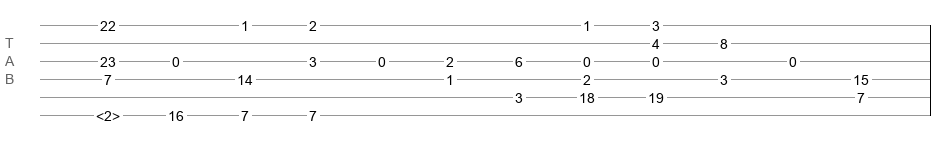0: (172, 54, 180, 64), (378, 54, 386, 64), (583, 54, 591, 64), (652, 54, 660, 64), (789, 54, 797, 64)
1: (241, 18, 249, 28), (446, 72, 454, 82), (583, 18, 591, 28)
14: (237, 72, 253, 82)
15: (853, 72, 869, 82)
16: (168, 108, 184, 118)
18: (579, 90, 595, 100)
19: (648, 90, 664, 100)
2: (309, 18, 317, 28), (446, 54, 454, 64), (583, 72, 591, 82)
22: (100, 18, 116, 28)
23: (100, 54, 116, 64)
3: (309, 54, 317, 64), (515, 90, 523, 100), (652, 18, 660, 28), (720, 72, 728, 82)
4: (652, 36, 660, 46)
6: (515, 54, 523, 64)
7: (104, 72, 112, 82), (241, 108, 249, 118), (309, 108, 317, 118), (857, 90, 865, 100)
8: (720, 36, 728, 46)
harmonic: (96, 108, 120, 118)
